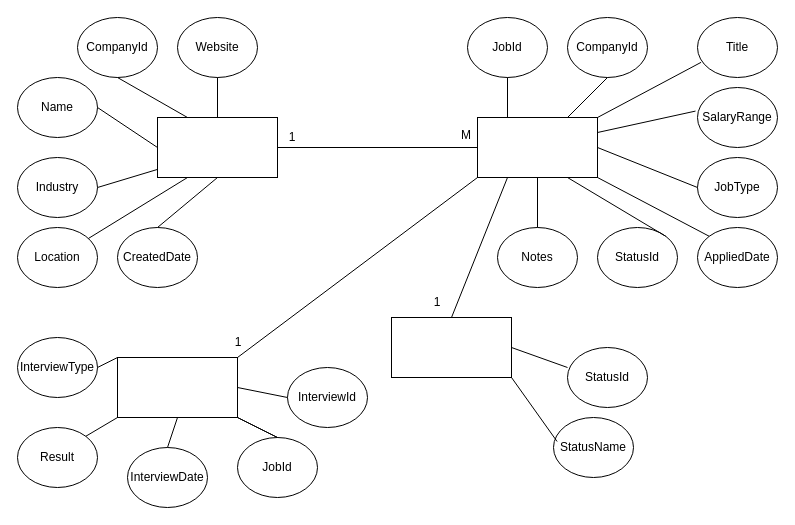
Some shapes in this 795 by 525 pixel diagram are drawn without their labels. The centre of each missing label's shape, as x and y in pixels:
Companies: (217,147)
Interviews: (177,387)
Jobs: (537,147)
Status: (451,347)
